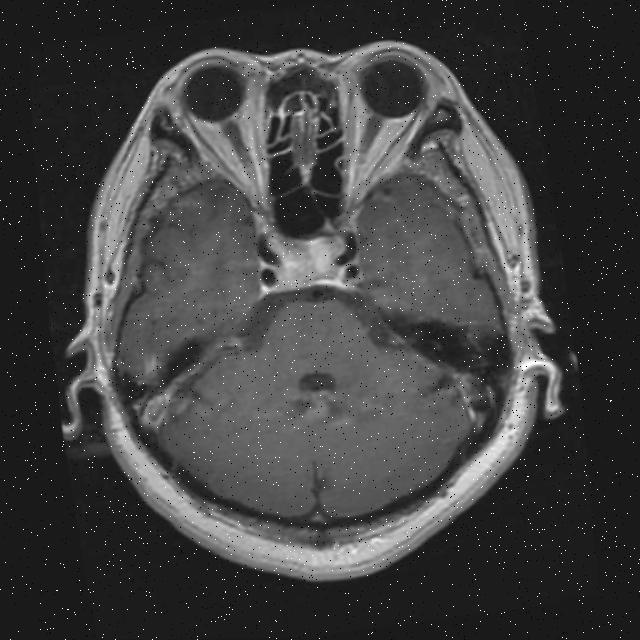Pituitary: (267, 225, 350, 291)
